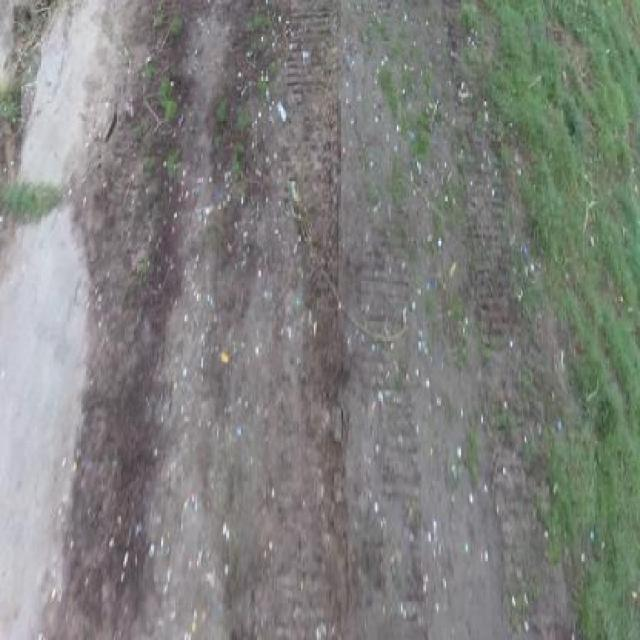Garbage: (277, 99, 288, 123)
